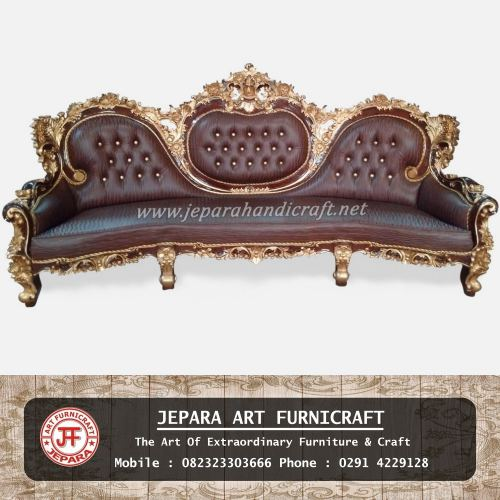Carving Chair: (9, 85, 492, 305)
